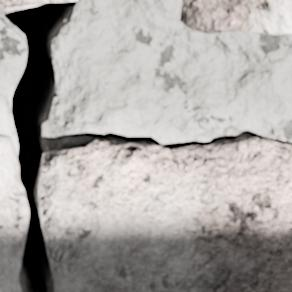brick: (182, 0, 291, 33), (0, 0, 68, 12)
broken_brick: (40, 135, 291, 291), (0, 135, 26, 291)
crack: (0, 0, 75, 291)
